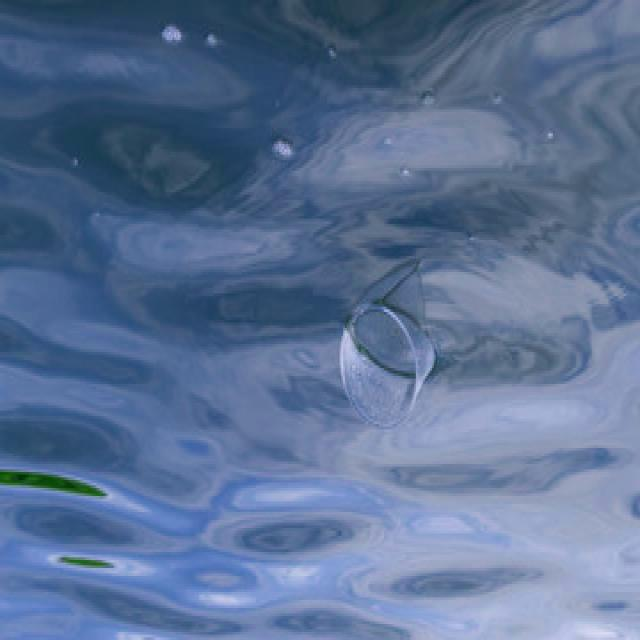Plastic: (337, 303, 436, 432)
